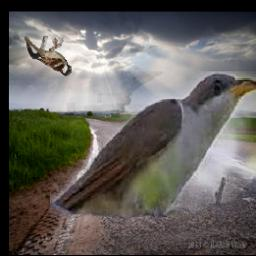Cuckoo: (50, 72, 256, 218)
Sparrow: (25, 36, 72, 76)
